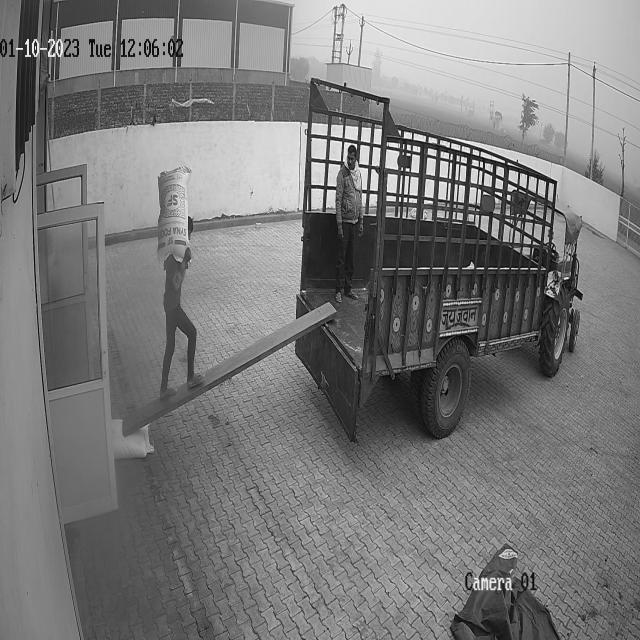sack: (157, 166, 190, 268), (111, 417, 154, 458)
